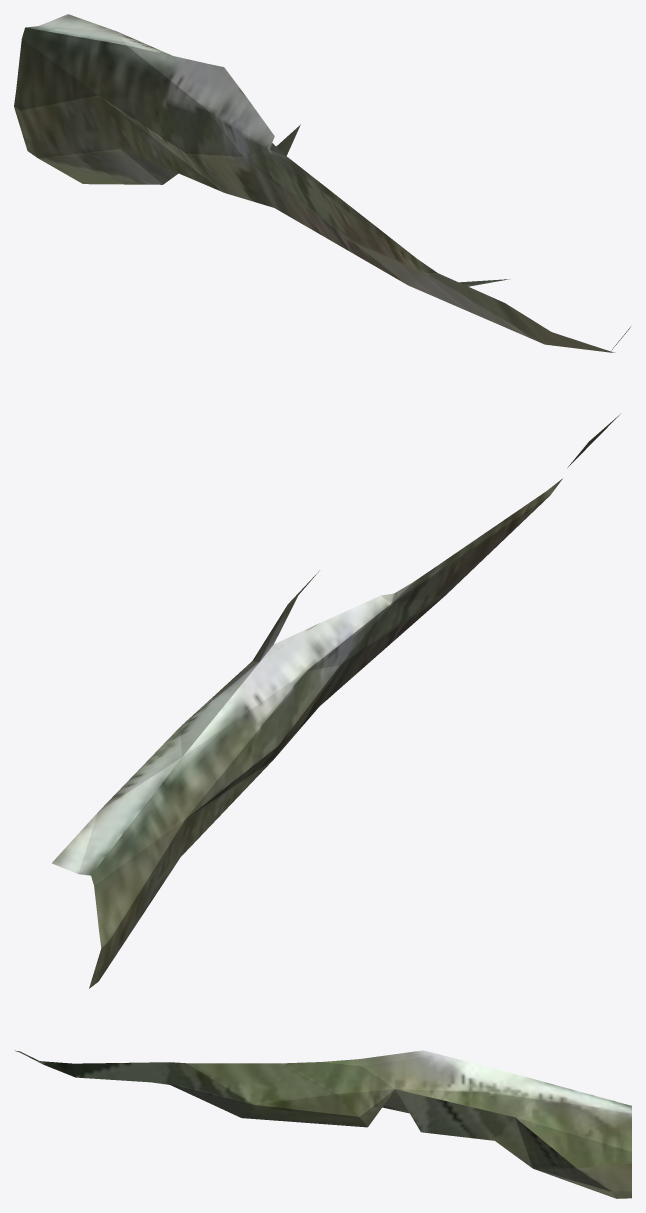
The picture shows the model from 3 angles, top to bottom: view 1: azimuth 30°, elevation 25°; view 2: azimuth 150°, elevation 25°; view 3: azimuth 270°, elevation 25°; orthographic projection. The views are drawn at different scales.
Bounding box in the file's own units: 0.2479 × 0.4592 × 1.87.
Materials: 1 (1 with a texture image).
